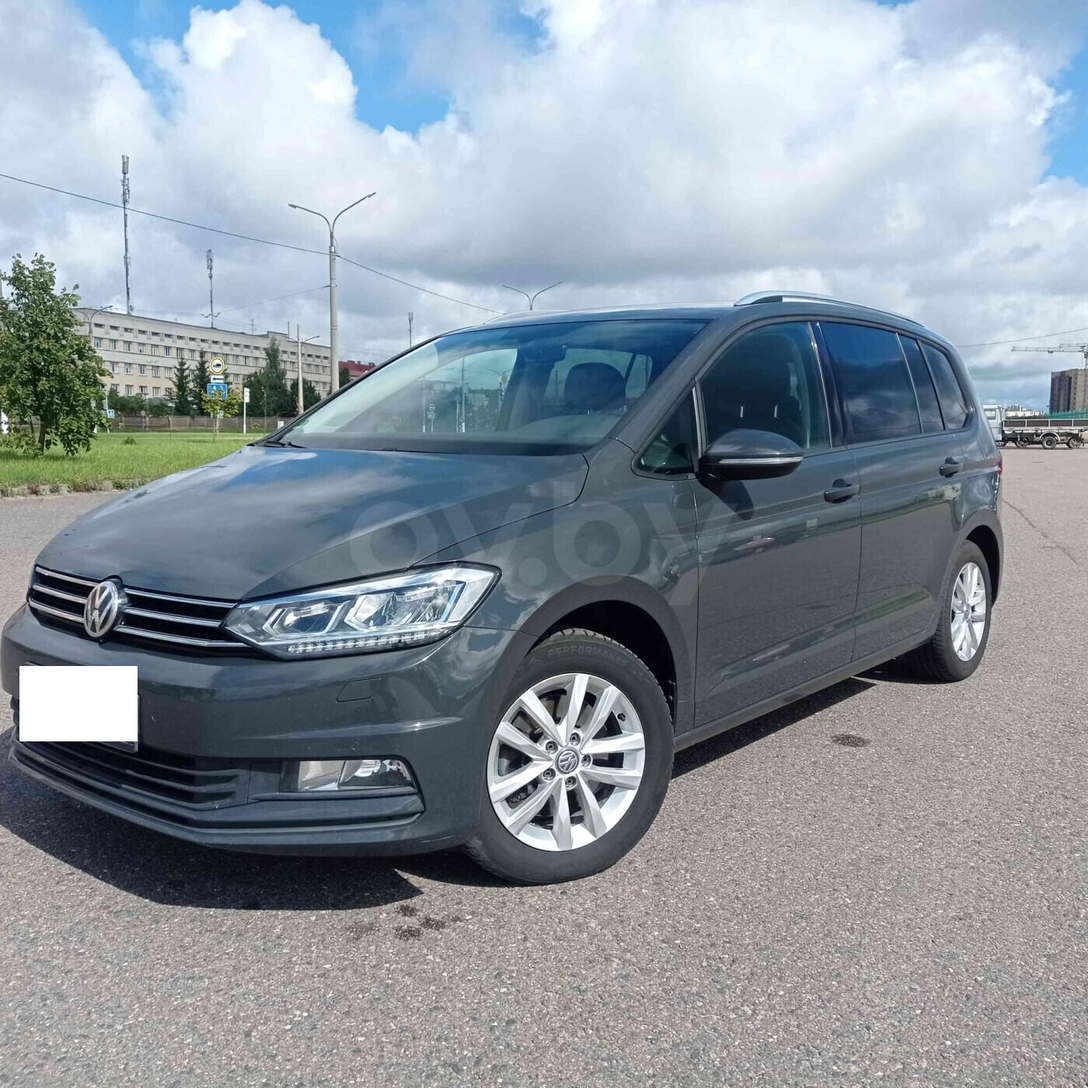Touran_2015: (0, 294, 1001, 884)
